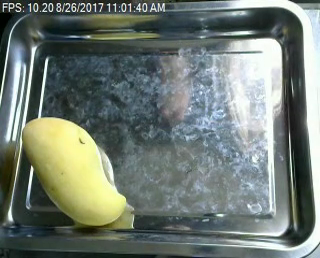Mango: (15, 117, 131, 226)
